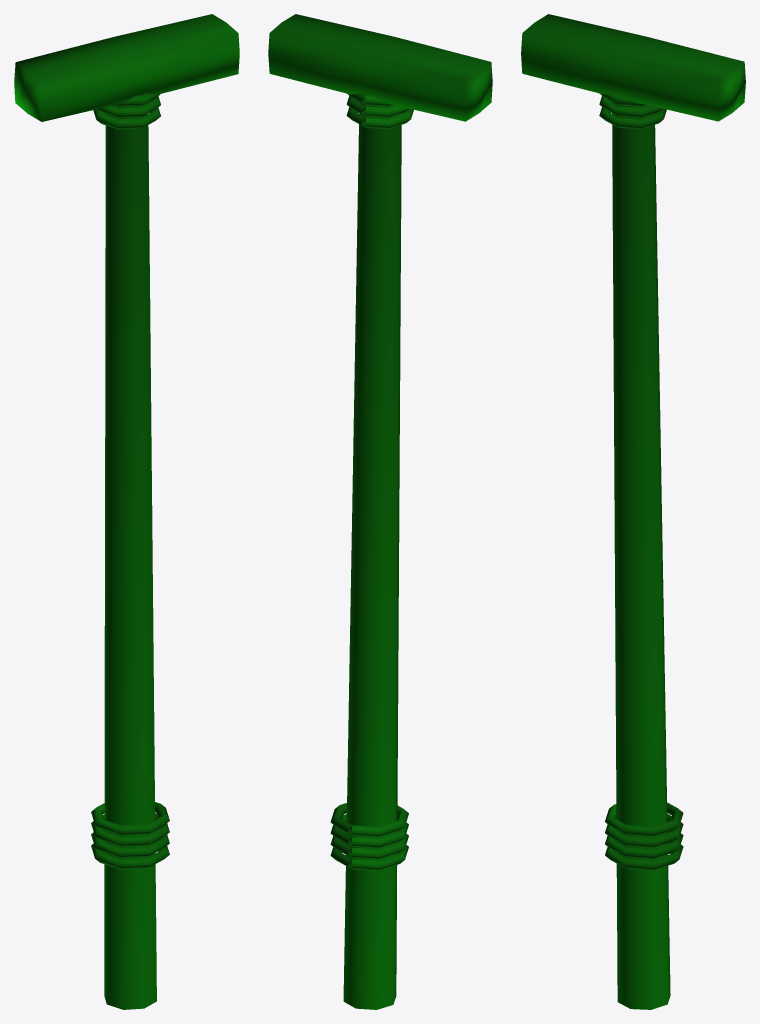
The model's file is gull_post.glb.
3 renders of one model, left to right at view 1: azimuth 30°, elevation 25°; view 2: azimuth 150°, elevation 25°; view 3: azimuth 330°, elevation 25°, orthographic.
Visible parts, largest first — view 1: gull_post; view 2: gull_post; view 3: gull_post.
Boxes of the visible parts, left/top/right/bottom form: gull_post: left=14, top=14, right=239, bottom=1009; gull_post: left=268, top=14, right=492, bottom=1009; gull_post: left=521, top=14, right=745, bottom=1009.
Size of what is drawn, in the model's own units: 0.6407 by 2.9 by 0.2283.
